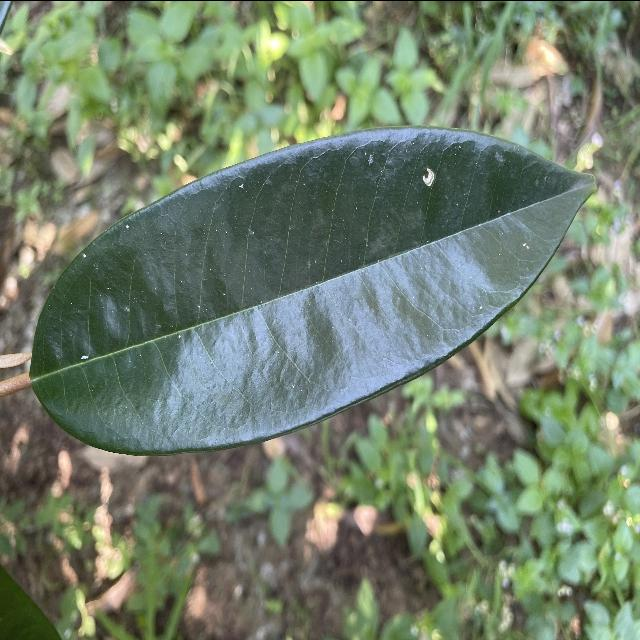No Disease: (23, 121, 611, 459)
